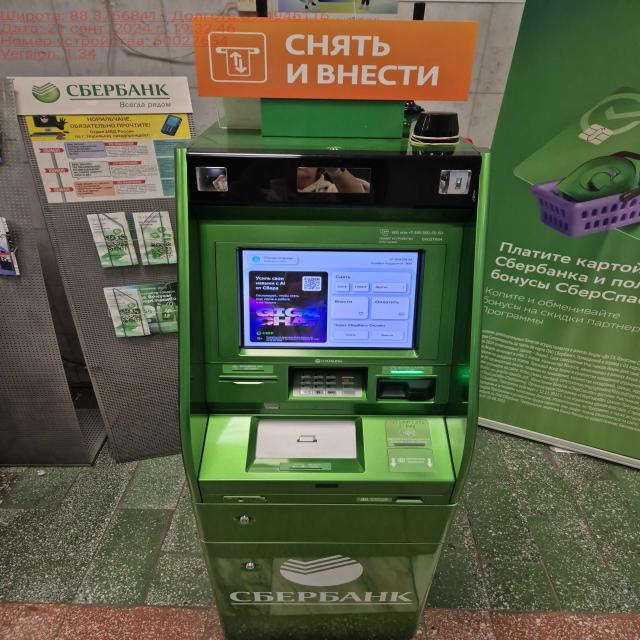bank: (172, 22, 485, 640)
